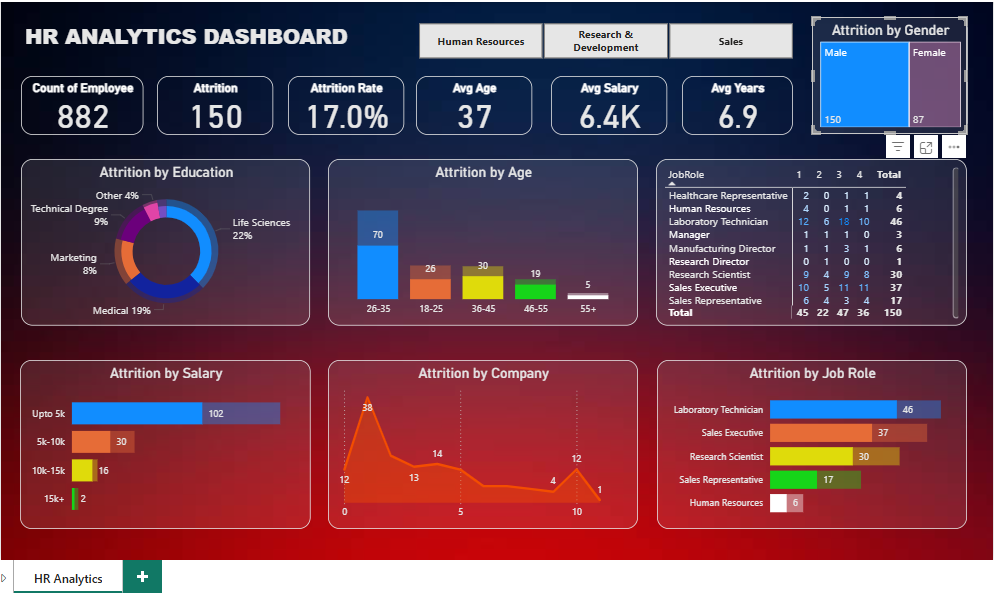

Layout of this report page (visuals, bound fields, positions):
{"tool":"powerbi","page":{"name":"Page 1","canvas":[1280,720],"ordinal":0},"visuals":[{"type":"card","title":"Count of Employee","fields":{"Values":["Count(HR_Analytics.EmpID)"]},"box":[26.4,95.1,158.5,75.7],"z":0},{"type":"card","title":"Attrition","fields":{"Values":["Sum(HR_Analytics.AttritionCount)"]},"box":[200.7,95.1,149.7,75.7],"z":1000},{"type":"card","title":"Attrition Rate","fields":{"Values":["HR_Analytics.AttritionRate"]},"box":[369.7,95.1,149.7,75.7],"z":2000},{"type":"card","title":"Avg Age","fields":{"Values":["Avg(HR_Analytics.Age)"]},"box":[535.2,95.1,149.7,75.7],"z":3000},{"type":"card","title":"Avg Years","fields":{"Values":["Avg(HR_Analytics.YearsAtCompany)"]},"box":[878.6,95.1,142.6,75.7],"z":4000},{"type":"card","title":"Avg Salary","fields":{"Values":["Avg(HR_Analytics.MonthlyIncome)"]},"box":[709.5,95.1,149.7,75.7],"z":5000},{"type":"donutChart","title":"Attrition by Education","fields":{"Category":["HR_Analytics.EducationField"],"Y":["Sum(HR_Analytics.AttritionCount)"]},"box":[26.4,202.5,373.3,214.8],"z":6000},{"type":"columnChart","title":"Attrition by Age","fields":{"Category":["HR_Analytics.AgeGroup"],"Y":["Sum(HR_Analytics.AttritionCount)"]},"box":[422.6,202.5,399.7,214.8],"z":7000},{"type":"pivotTable","fields":{"Rows":["HR_Analytics.JobRole"],"Columns":["HR_Analytics.JobSatisfaction"],"Values":["Sum(HR_Analytics.AttritionCount)"]},"box":[845.1,202.5,401.4,214.8],"z":8000},{"type":"barChart","title":"Attrition by Salary","fields":{"Category":["HR_Analytics.SalarySlab"],"Y":["Sum(HR_Analytics.AttritionCount)"]},"box":[24.6,461.3,375,218.3],"z":9000},{"type":"barChart","title":"Attrition by Job Role","fields":{"Y":["Sum(HR_Analytics.AttritionCount)"],"Category":["HR_Analytics.JobRole"]},"box":[846.9,461.3,399.7,218.3],"z":10000},{"type":"areaChart","title":"Attrition by Company","fields":{"Category":["HR_Analytics.YearsAtCompany"],"Y":["Sum(HR_Analytics.AttritionCount)"]},"box":[422.6,461.3,399.7,218.3],"z":11000},{"type":"treemap","title":"Attrition by Gender","fields":{"Values":["Sum(HR_Analytics.AttritionCount)"],"Group":["HR_Analytics.Gender"]},"box":[1045.8,19.4,200.7,151.4],"z":12000},{"type":"slicer","title":"Departments","fields":{"Values":["HR_Analytics.Department"]},"box":[513.4,20,532,58.6],"z":13000},{"type":"textbox","box":[25.7,20,463.4,60.1],"z":14000}]}

Visuals, with their boxes on the page's 1280x720 design canvas (x1, y1, x2, y2). These are canvas units, not pixel positions in the 994x593 screenshot, which may show the page scaled, cropped or inside an application window:
"Count of Employee" card: <region>26, 95, 185, 171</region>
"Attrition" card: <region>201, 95, 350, 171</region>
"Attrition Rate" card: <region>370, 95, 519, 171</region>
"Avg Age" card: <region>535, 95, 685, 171</region>
"Avg Years" card: <region>879, 95, 1021, 171</region>
"Avg Salary" card: <region>710, 95, 859, 171</region>
"Attrition by Education" donutChart: <region>26, 202, 400, 417</region>
"Attrition by Age" columnChart: <region>423, 202, 822, 417</region>
pivotTable - HR_Analytics.JobRole x HR_Analytics.JobSatisfaction: <region>845, 202, 1246, 417</region>
"Attrition by Salary" barChart: <region>25, 461, 400, 680</region>
"Attrition by Job Role" barChart: <region>847, 461, 1247, 680</region>
"Attrition by Company" areaChart: <region>423, 461, 822, 680</region>
"Attrition by Gender" treemap: <region>1046, 19, 1246, 171</region>
"Departments" slicer: <region>513, 20, 1045, 79</region>
textbox: <region>26, 20, 489, 80</region>
